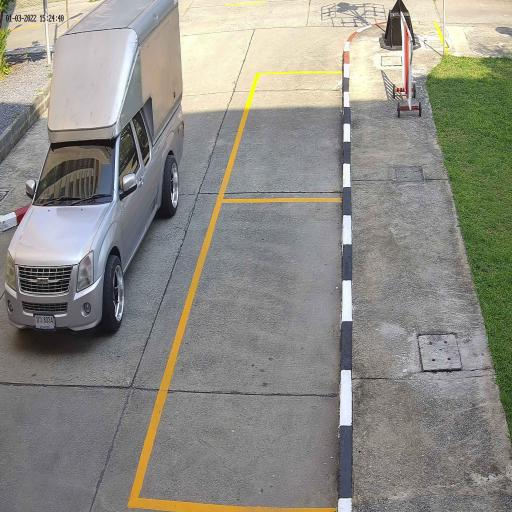car: (4, 2, 186, 336)
